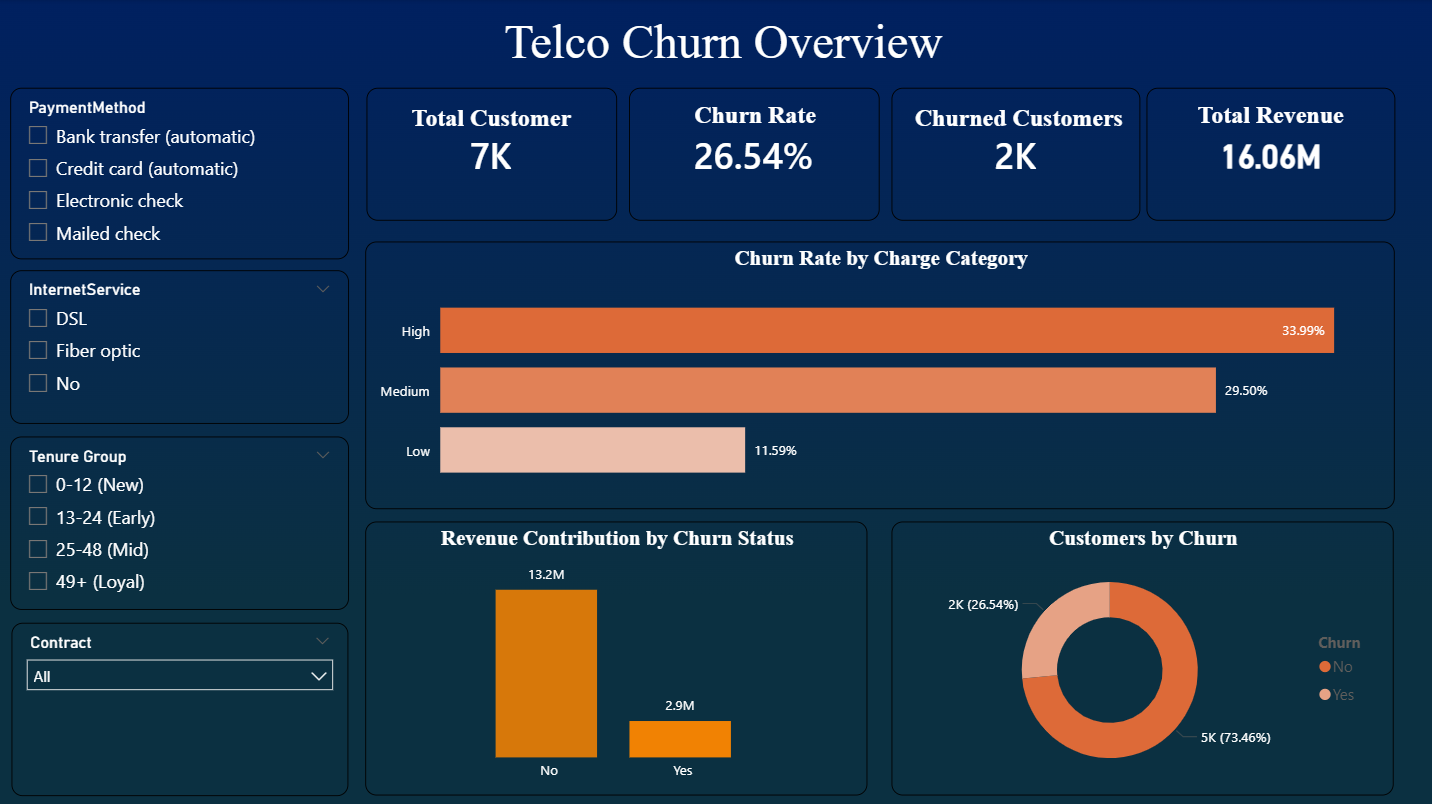

This screenshot's page, from the dashboard's own definition file:
{"tool":"powerbi","page":{"name":"Executive Overview","canvas":[1280,720],"ordinal":0},"visuals":[{"type":"cardVisual","fields":{"Data":["telco customer churn.Total Customer"]},"box":[327.1,78.6,222.9,118.6],"z":0},{"type":"cardVisual","fields":{"Data":["telco customer churn.Churn Rate"]},"box":[561.4,78.6,222.9,118.6],"z":1000},{"type":"cardVisual","fields":{"Data":["telco customer churn.Churned Customers"]},"box":[794.3,78.6,221.4,118.6],"z":2000},{"type":"card","title":"Total Revenue","fields":{"Values":["telco customer churn.Total Revenue"]},"box":[1021.4,78.6,221.4,118.6],"z":3000},{"type":"donutChart","title":"Customers by Churn","fields":{"Category":["telco customer churn.Churn"],"Y":["telco customer churn.Total Customer"]},"box":[794.3,465.7,447.1,244.3],"z":4000},{"type":"clusteredColumnChart","title":"Revenue Contribution by Churn Status","fields":{"Category":["telco customer churn.Churn"],"Y":["telco customer churn.Total Revenue"]},"box":[325.7,465.7,447.1,244.3],"z":5000},{"type":"barChart","fields":{"Category":["telco customer churn.Charge Category"],"Y":["telco customer churn.Churn Rate"]},"box":[325.7,215.7,917.1,238.6],"z":6000},{"type":"textbox","box":[9.8,8.6,1270.2,70.1],"z":7000},{"type":"textbox","box":[1052.9,87.1,158.6,37.1],"z":8000},{"type":"textbox","box":[592.9,87.1,160,37.1],"z":9000},{"type":"textbox","box":[358.6,88.6,160,35.7],"z":10000},{"type":"textbox","box":[798.6,88.6,220,37.1],"z":11000},{"type":"slicer","fields":{"Values":["telco customer churn.PaymentMethod"]},"box":[10,78.6,301.4,152.9],"z":12000},{"type":"slicer","fields":{"Values":["telco customer churn.Contract"]},"box":[11.4,555.7,300,154.3],"z":13000},{"type":"slicer","fields":{"Values":["telco customer churn.InternetService"]},"box":[10,241.4,301.4,137.1],"z":14000},{"type":"slicer","fields":{"Values":["telco customer churn.Tenure Group"]},"box":[10,390,301.4,154.3],"z":15000}]}

Visuals, with their boxes in screenshot pixels (x1, y1, x2, y2), scaled from the page's 1280x720 canvas onto the 1432x804 screenshot:
cardVisual - telco customer churn.Total Customer: l=366, t=88, r=615, b=220
cardVisual - telco customer churn.Churn Rate: l=628, t=88, r=877, b=220
cardVisual - telco customer churn.Churned Customers: l=889, t=88, r=1136, b=220
"Total Revenue" card: l=1143, t=88, r=1390, b=220
"Customers by Churn" donutChart: l=889, t=520, r=1389, b=793
"Revenue Contribution by Churn Status" clusteredColumnChart: l=364, t=520, r=865, b=793
barChart - telco customer churn.Charge Category x telco customer churn.Churn Rate: l=364, t=241, r=1390, b=507
textbox: l=11, t=10, r=1431, b=88
textbox: l=1178, t=97, r=1355, b=139
textbox: l=663, t=97, r=842, b=139
textbox: l=401, t=99, r=580, b=139
textbox: l=893, t=99, r=1140, b=140
slicer - telco customer churn.PaymentMethod: l=11, t=88, r=348, b=259
slicer - telco customer churn.Contract: l=13, t=621, r=348, b=793
slicer - telco customer churn.InternetService: l=11, t=270, r=348, b=423
slicer - telco customer churn.Tenure Group: l=11, t=436, r=348, b=608
